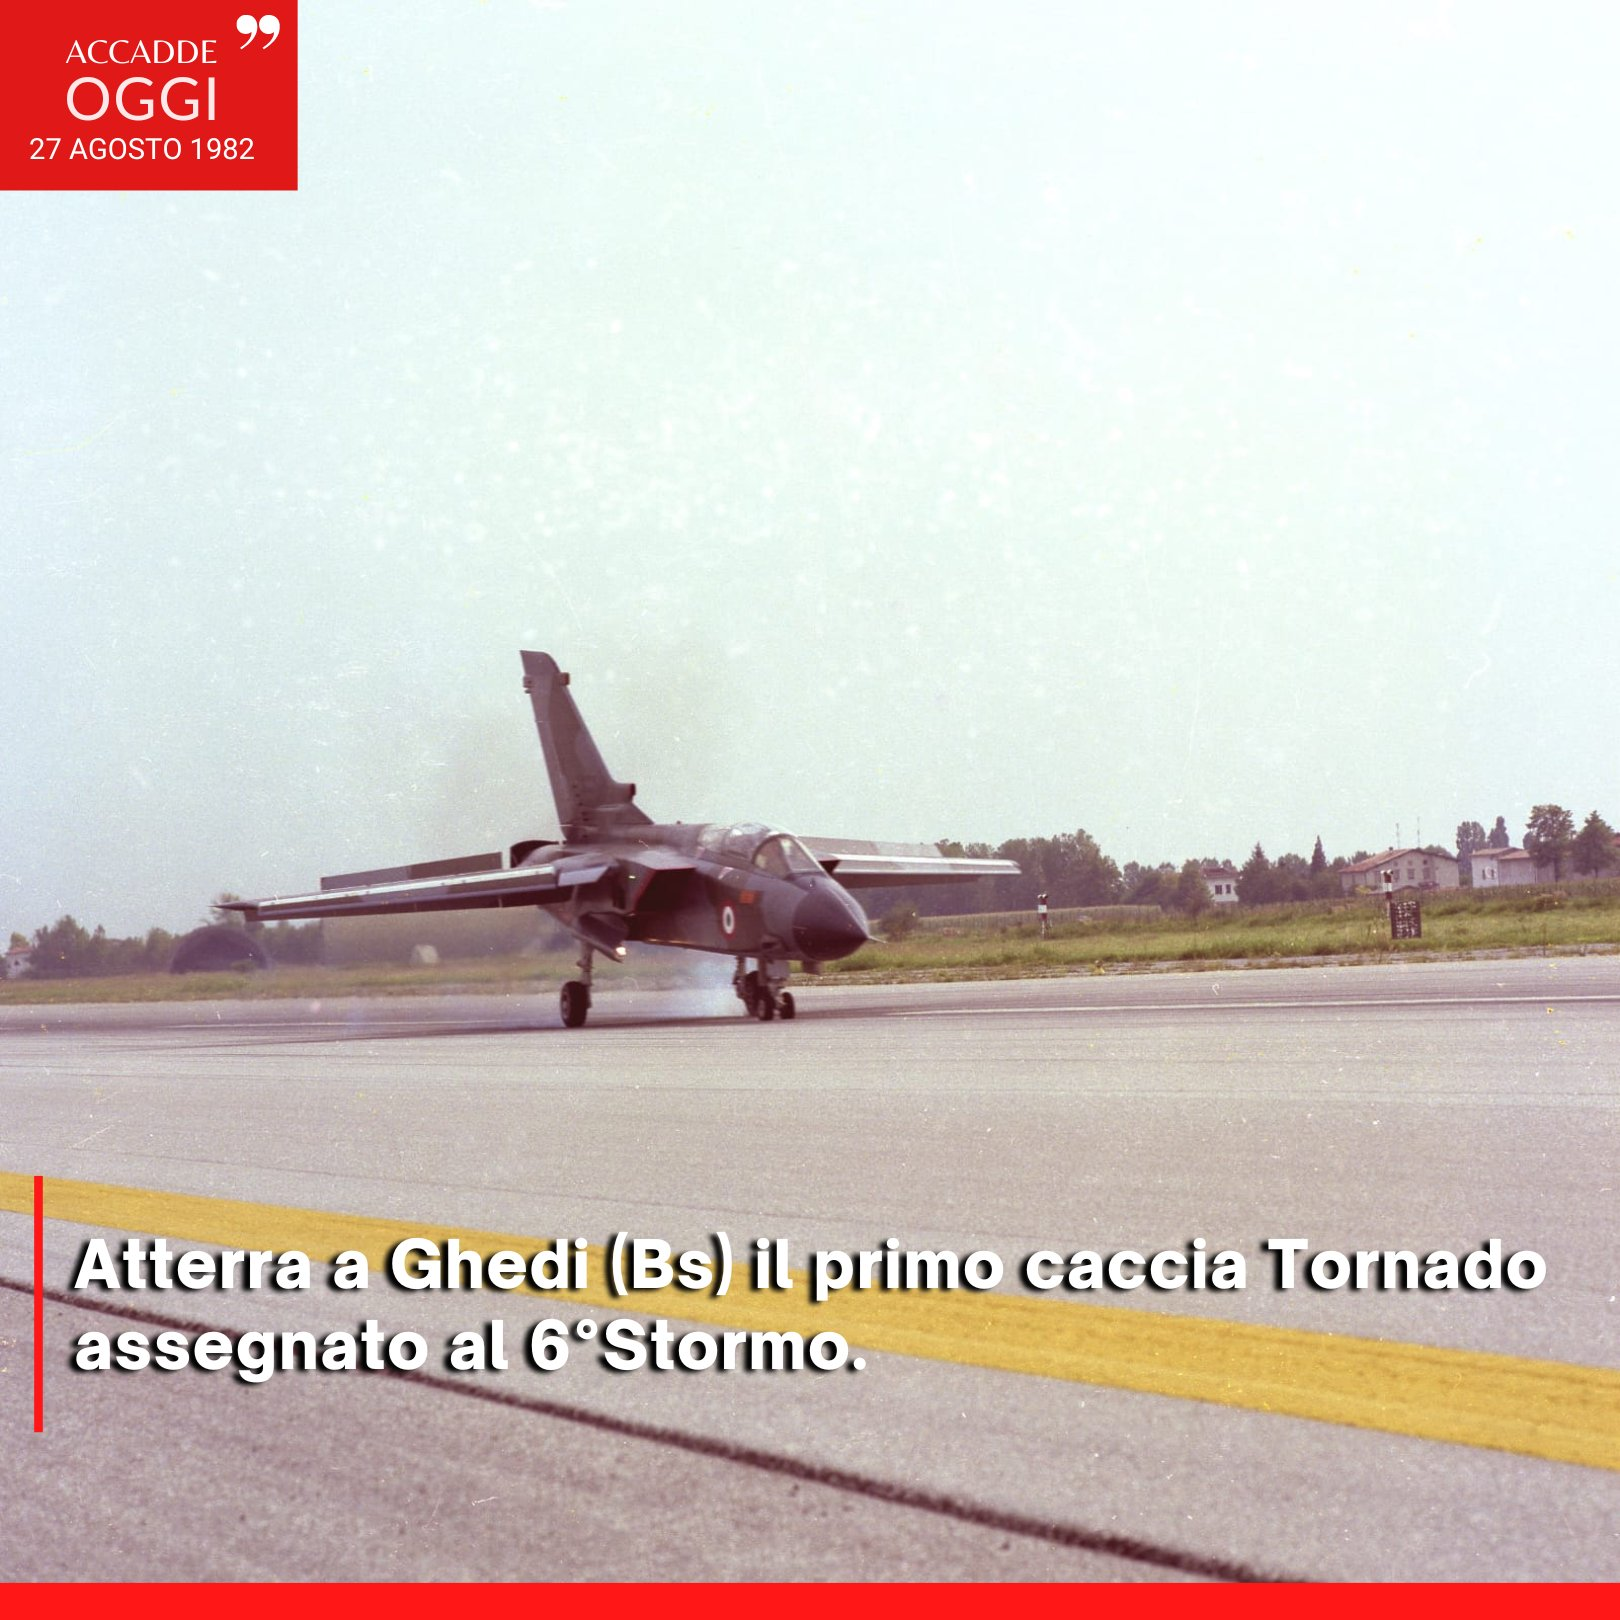Tornado: (206, 648, 1024, 1027)
